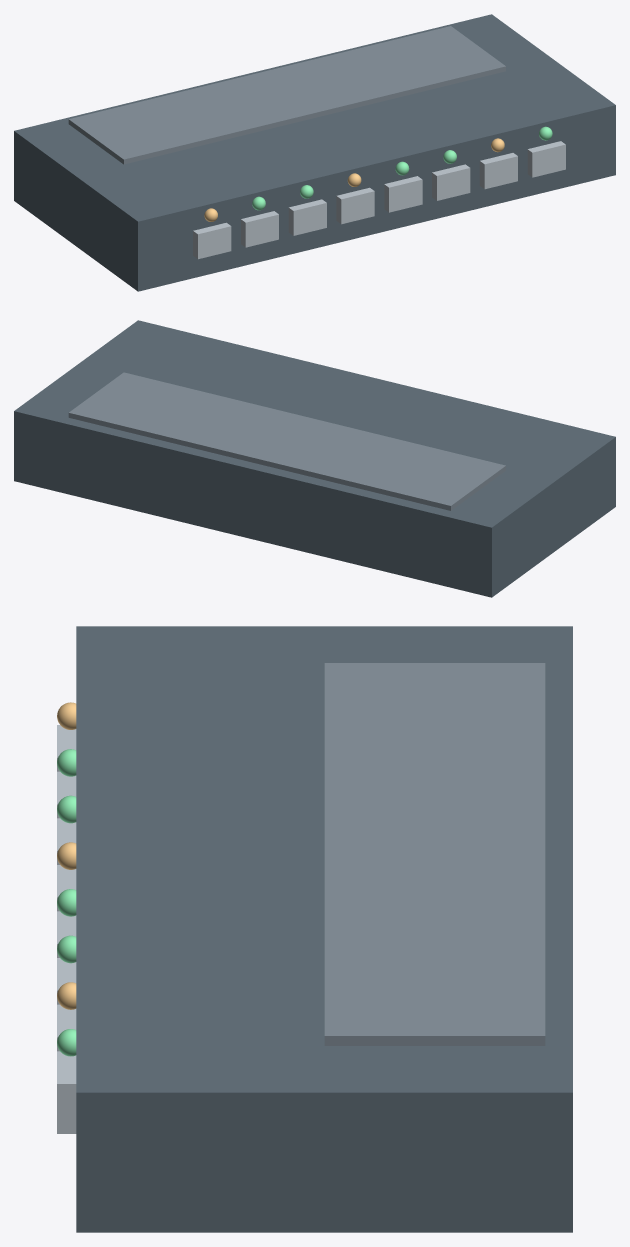
File: switch.glb
3 views of the same model, one above another, from view 1: azimuth 30°, elevation 25°; view 2: azimuth 150°, elevation 25°; view 3: azimuth 270°, elevation 25° (orthographic). The views are drawn at different scales.
Parts seen in each view (by area): view 1: switch_body, switch_vent, switch_port_5, switch_port_6, switch_port_7, switch_port_1, switch_port_3, switch_port_4, switch_port_8, switch_port_2; view 2: switch_body, switch_vent; view 3: switch_body, switch_vent, switch_port_8.
Part boxes in pixels (bbox=[...]): switch_body: bbox=[14, 14, 615, 291]; switch_vent: bbox=[68, 26, 505, 164]; switch_port_5: bbox=[384, 176, 422, 212]; switch_port_6: bbox=[432, 164, 470, 200]; switch_port_7: bbox=[479, 153, 517, 189]; switch_port_1: bbox=[193, 222, 231, 259]; switch_port_3: bbox=[288, 199, 326, 235]; switch_port_4: bbox=[336, 187, 374, 224]; switch_port_8: bbox=[527, 141, 565, 177]; switch_port_2: bbox=[241, 211, 278, 247]; switch_body: bbox=[14, 320, 615, 597]; switch_vent: bbox=[68, 372, 505, 510]; switch_body: bbox=[76, 626, 572, 1232]; switch_vent: bbox=[324, 663, 545, 1045]; switch_port_8: bbox=[57, 1051, 76, 1133].
Bounding box in the file's own units: 1.8 × 0.2693 × 0.8393.
